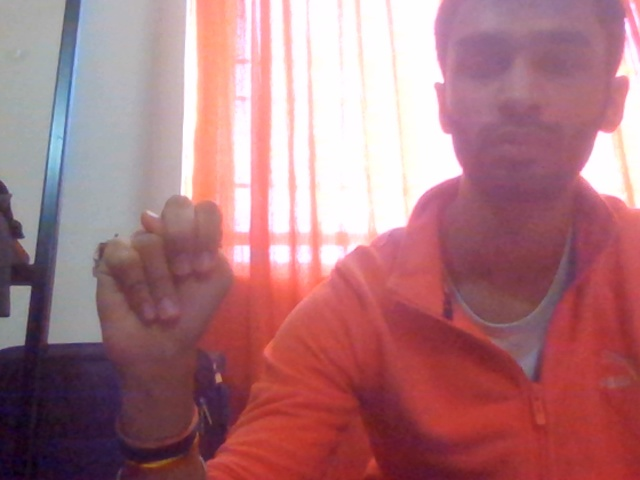N: (97, 181, 267, 405)
